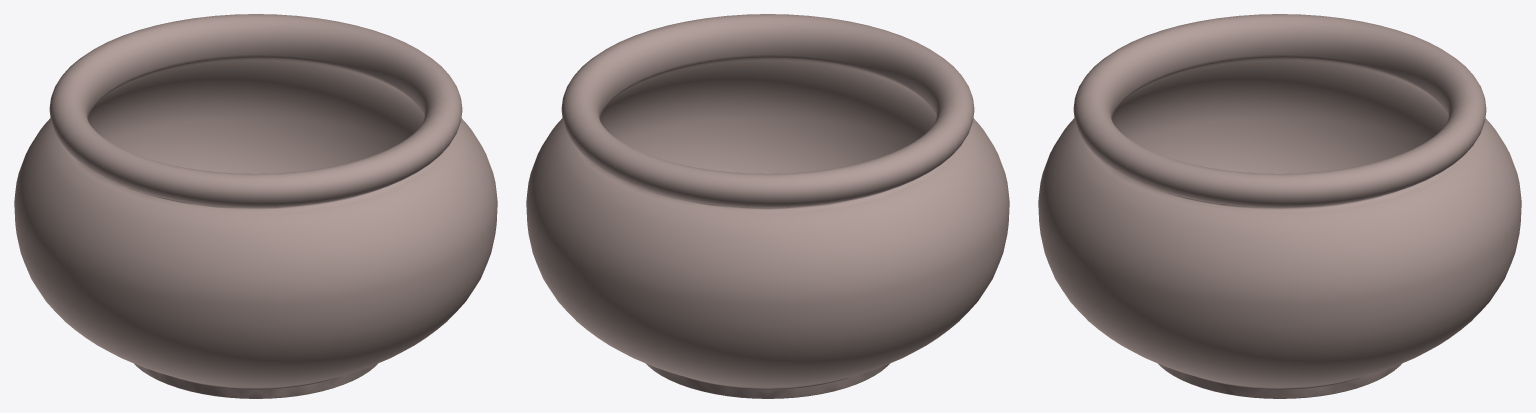
The model's file is VasoLargo.fbx.
3 views of the same model, side by side, from view 1: azimuth 30°, elevation 25°; view 2: azimuth 150°, elevation 25°; view 3: azimuth 270°, elevation 25° (orthographic).
Parts seen in each view (by area): view 1: VasoLargo; view 2: VasoLargo; view 3: VasoLargo.
Part boxes in pixels (x1=…): VasoLargo: x1=14, y1=14, x2=497, y2=398; VasoLargo: x1=526, y1=14, x2=1009, y2=398; VasoLargo: x1=1038, y1=14, x2=1521, y2=398.
Size of the model in its own units: 70.97 by 40.19 by 70.97.
